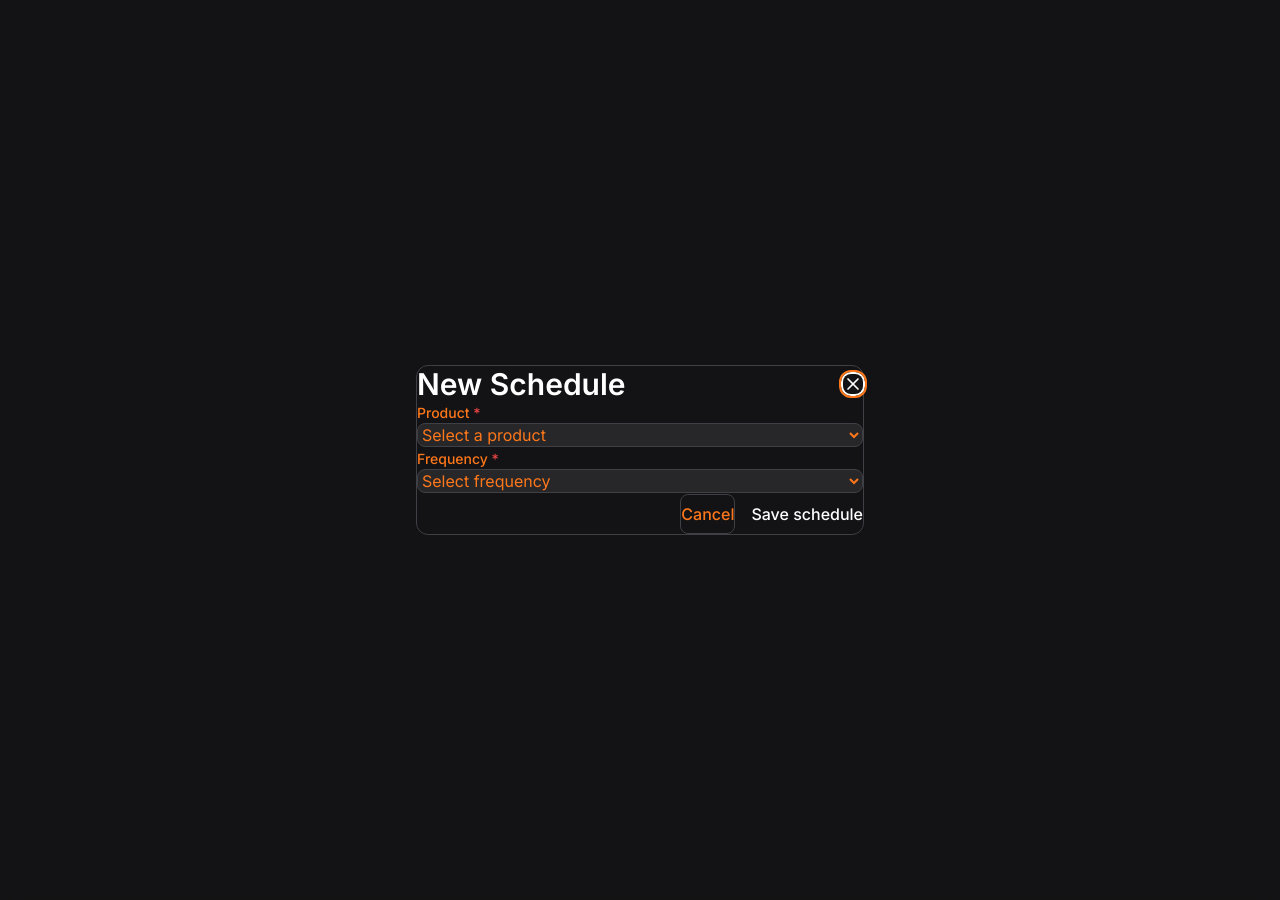
ScheduleForm › Validation › should validate cron expression for custom frequency
The width and height of the screenshot is (1280, 900).
// Select product
Select "MercadoLibre" in the dropdown labelled "Product *" at x=640, y=435, box [417,423,863,447]
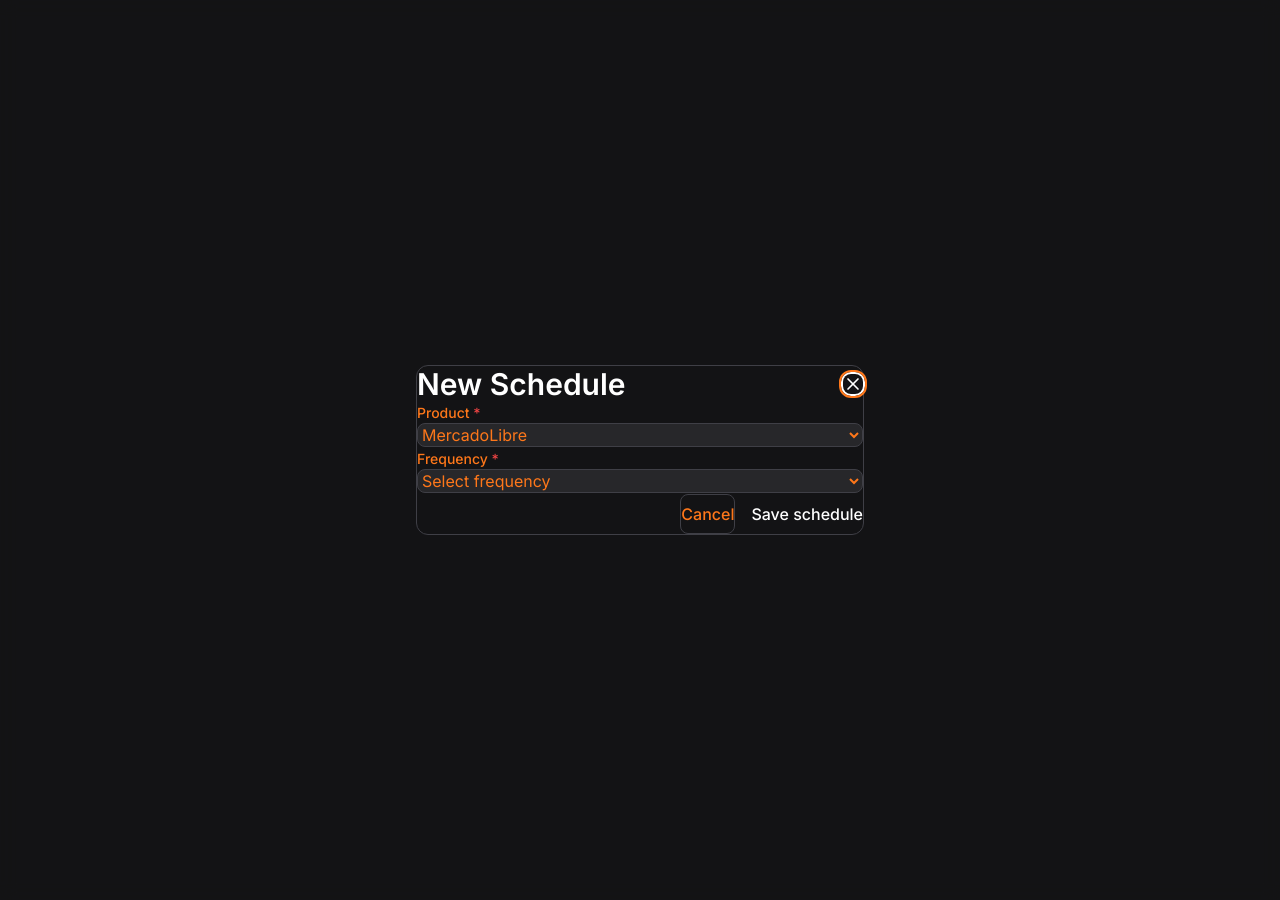
// Select custom frequency
Select "Custom" in the dropdown labelled "Frequency *" at x=640, y=481, box [417,469,863,493]
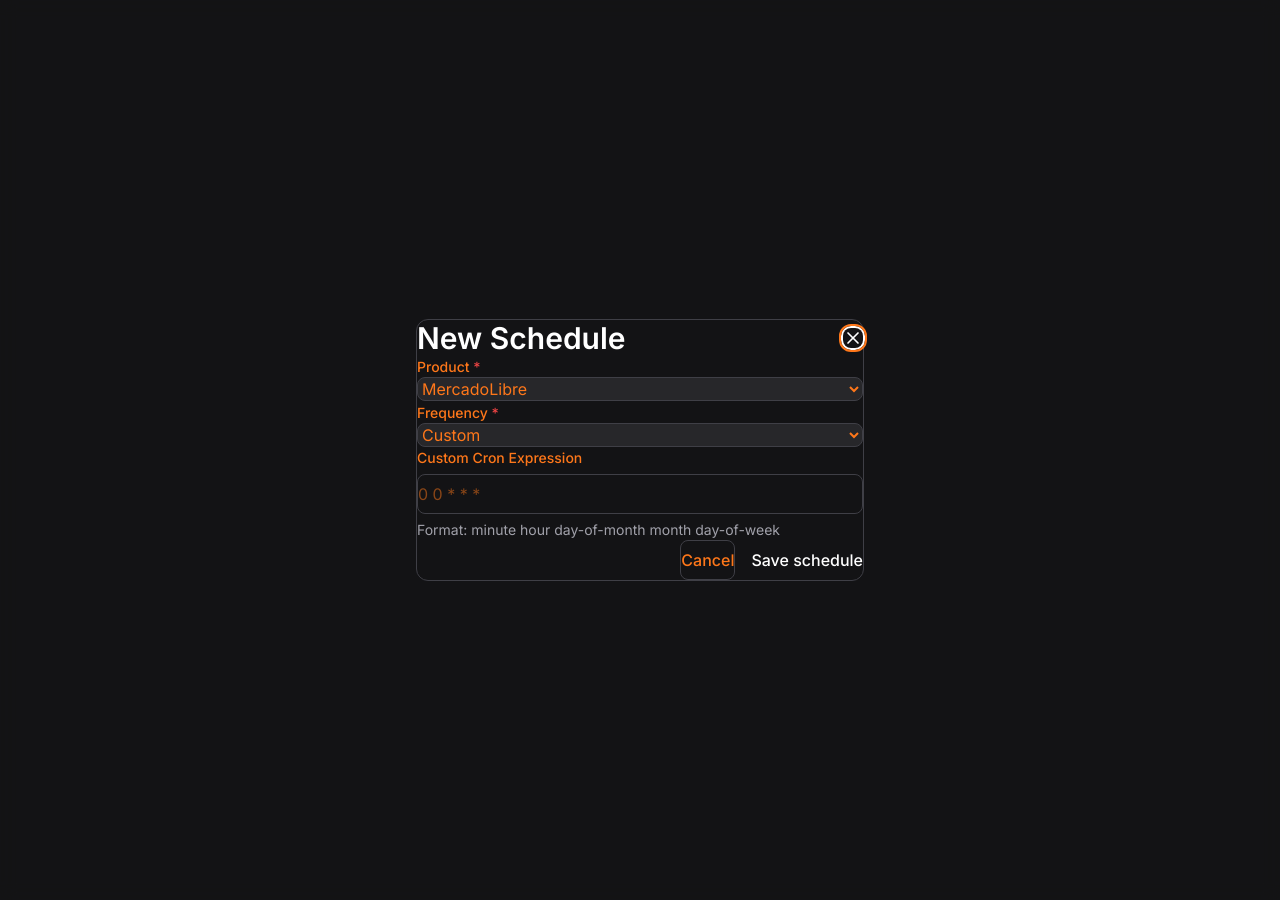
// Enter invalid cron
Type "invalid" into the field labelled "Custom Cron Expression" at x=640, y=494, box [417,474,863,514]
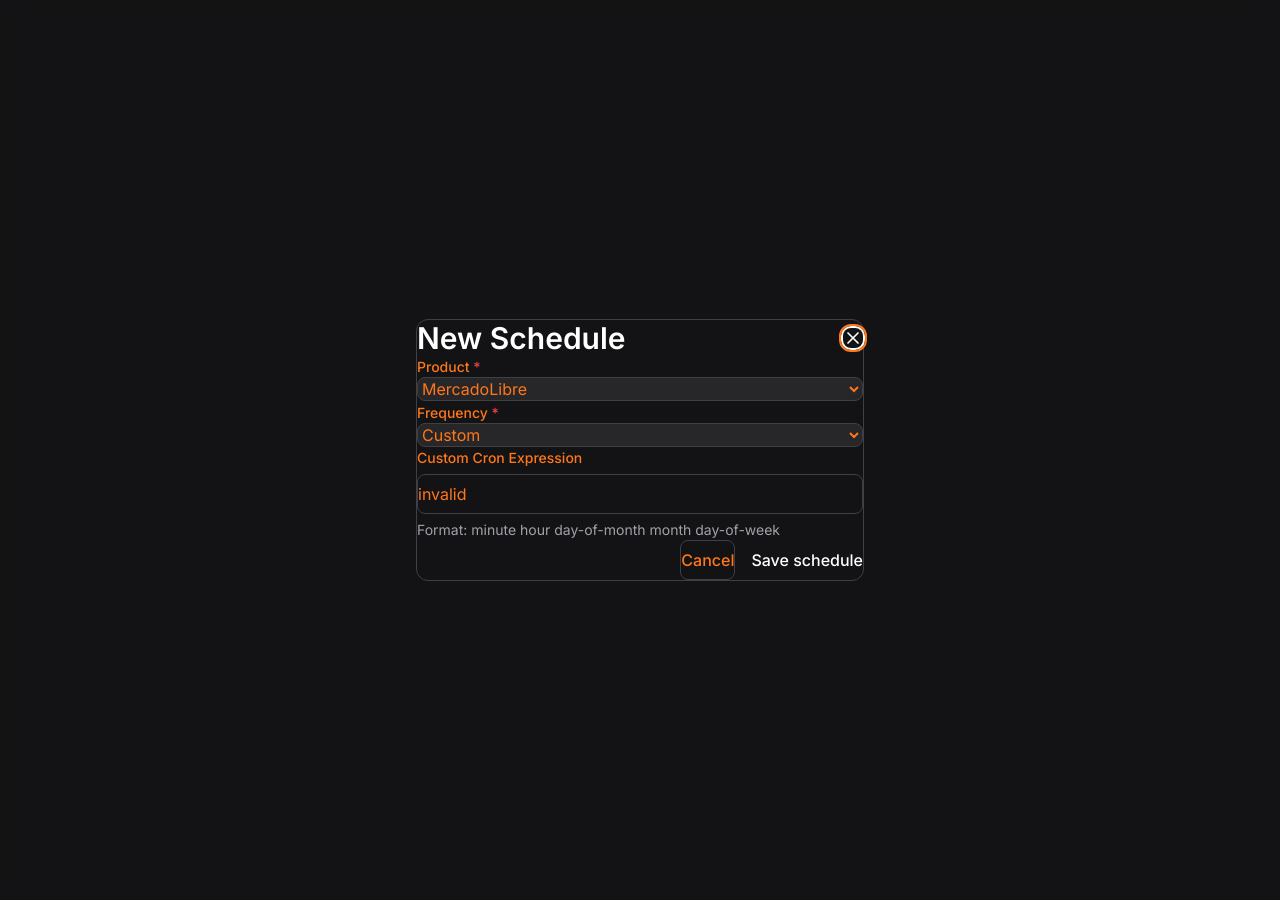
Click the button "Save schedule" at x=807, y=560, box [751,540,863,580]
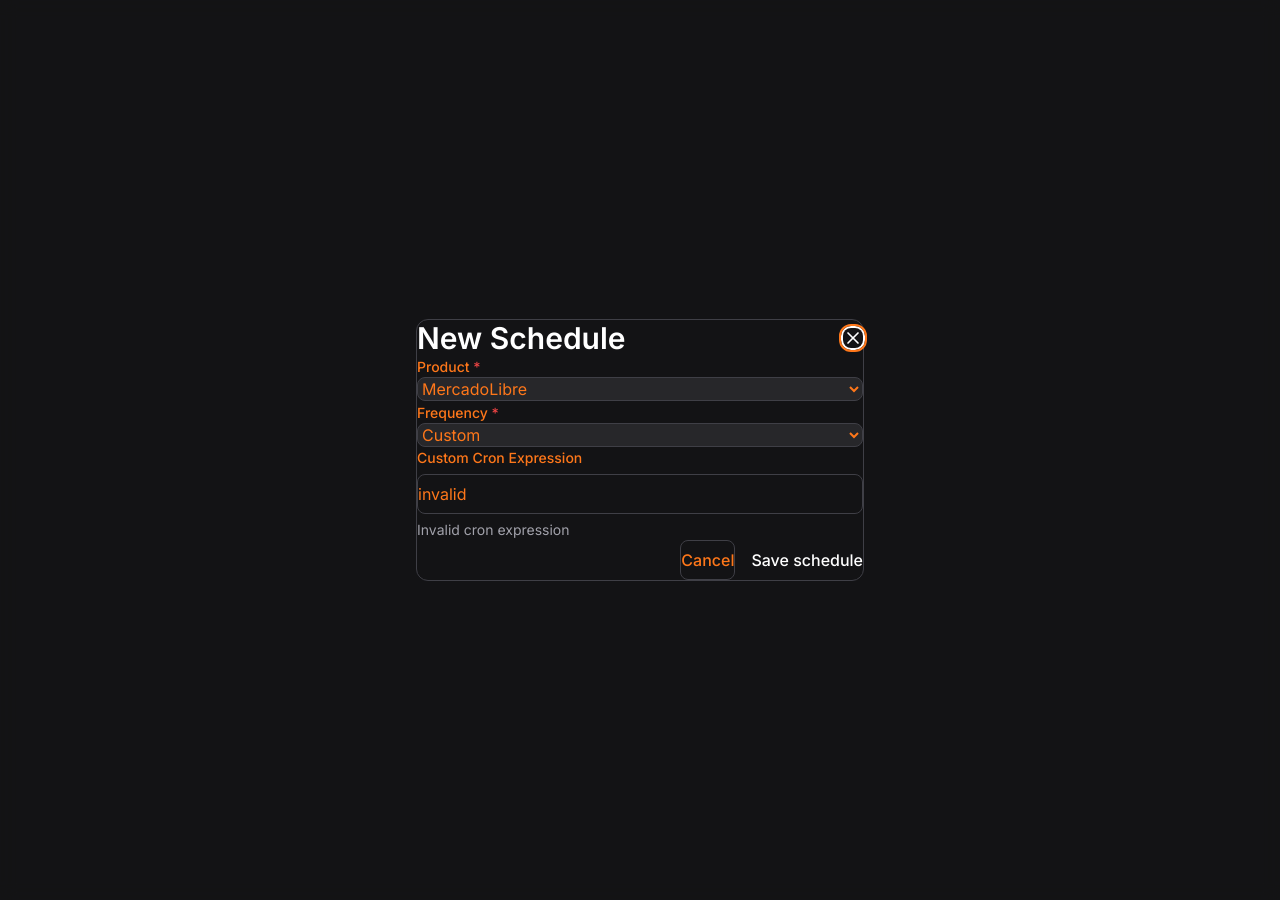
Now the text "Invalid cron expression" is shown, box [417,521,570,538]
